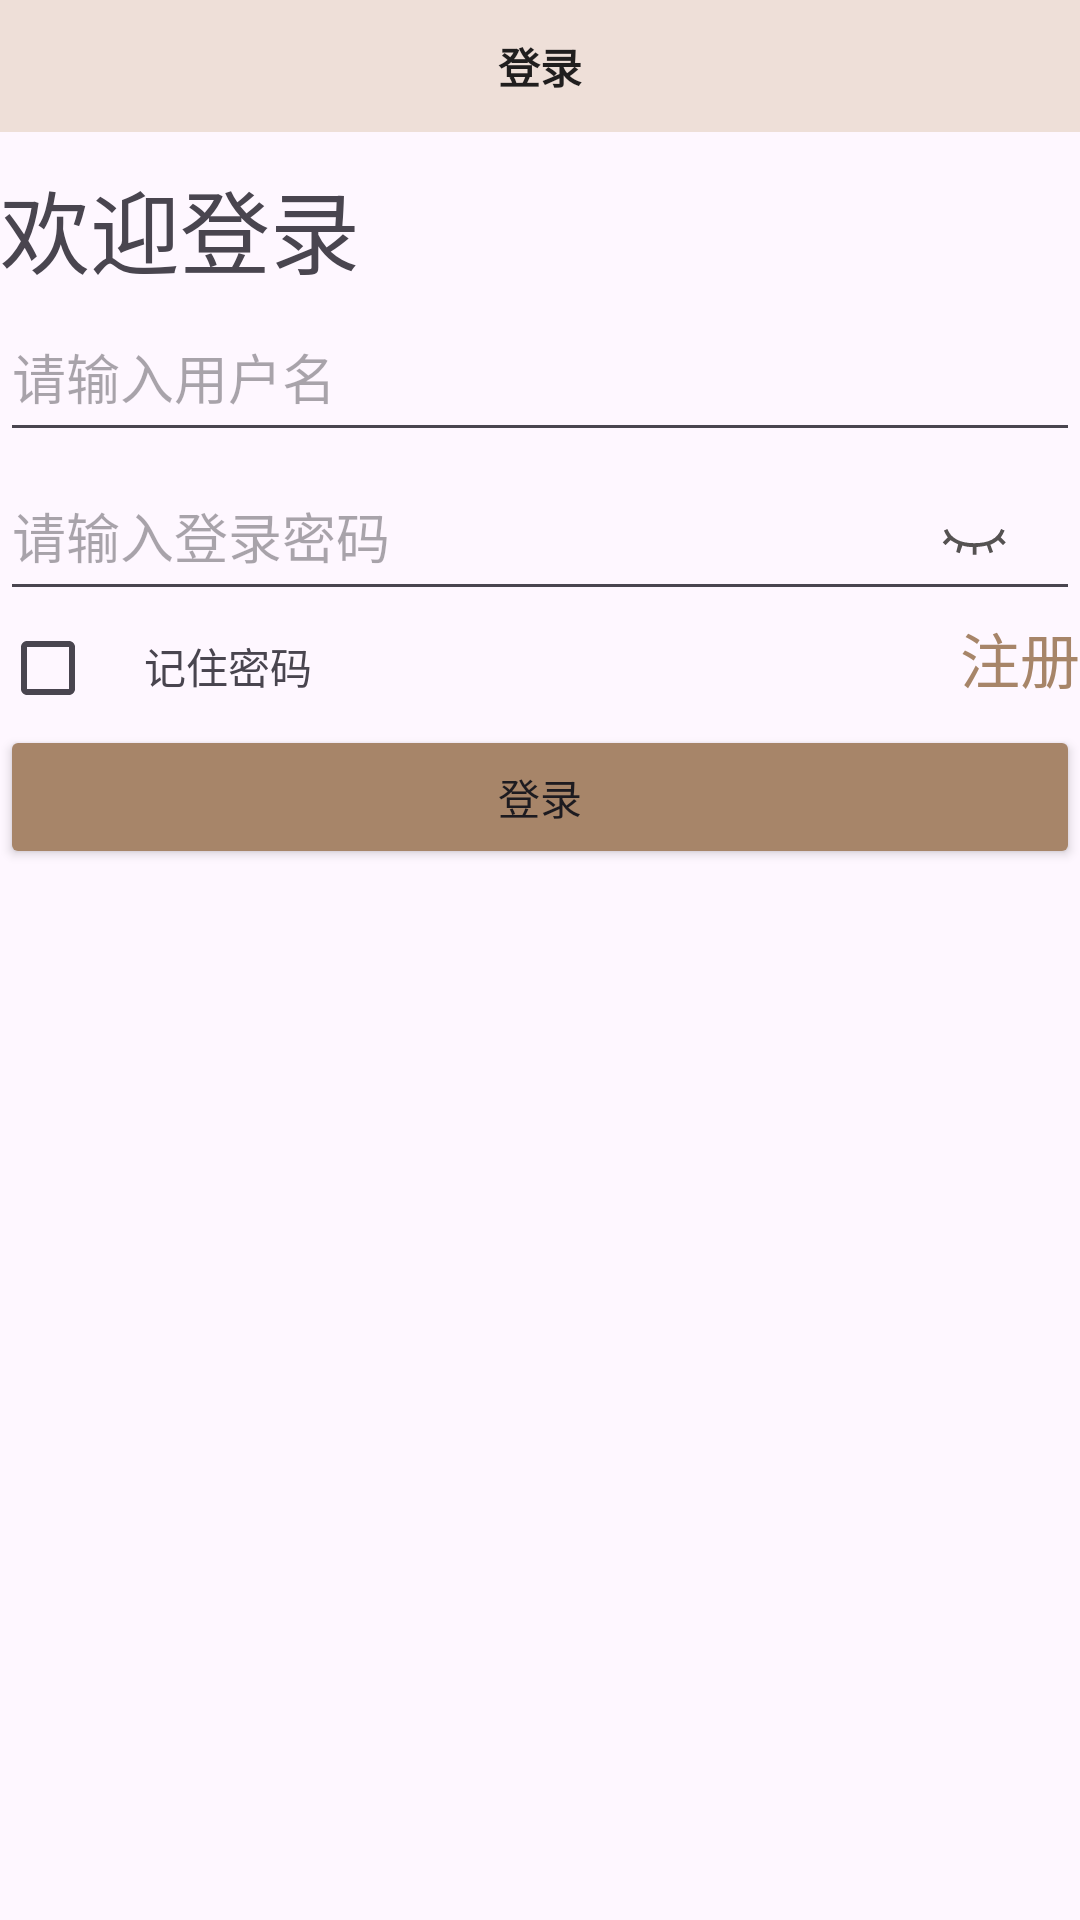

Icon bounding boxes for this 1080x1920 phone screenshot, format (x1, y1, x2, y2):
hidden: (943, 529, 1006, 555)
